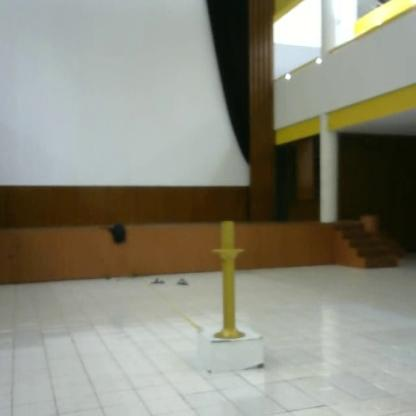pole: (207, 220, 250, 348)
